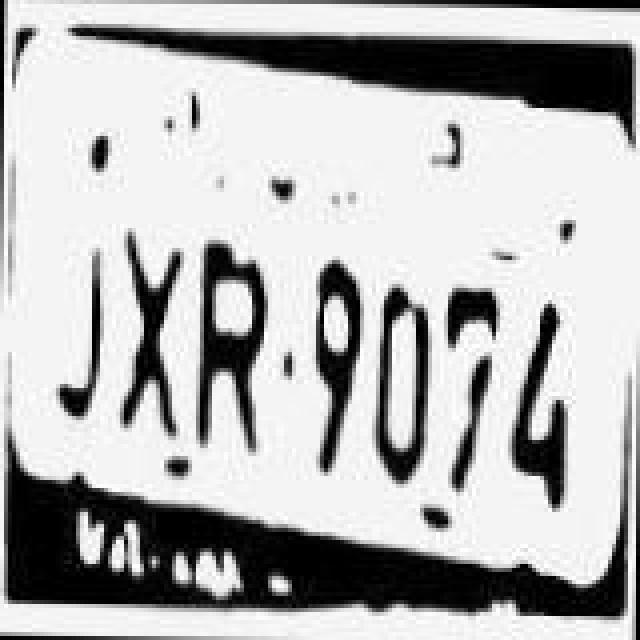4: (506, 294, 578, 522)
7: (436, 274, 504, 494)
9: (310, 236, 378, 488)
J: (42, 230, 118, 450)
O: (374, 262, 442, 498)
R: (192, 226, 272, 462)
X: (110, 220, 186, 444)
